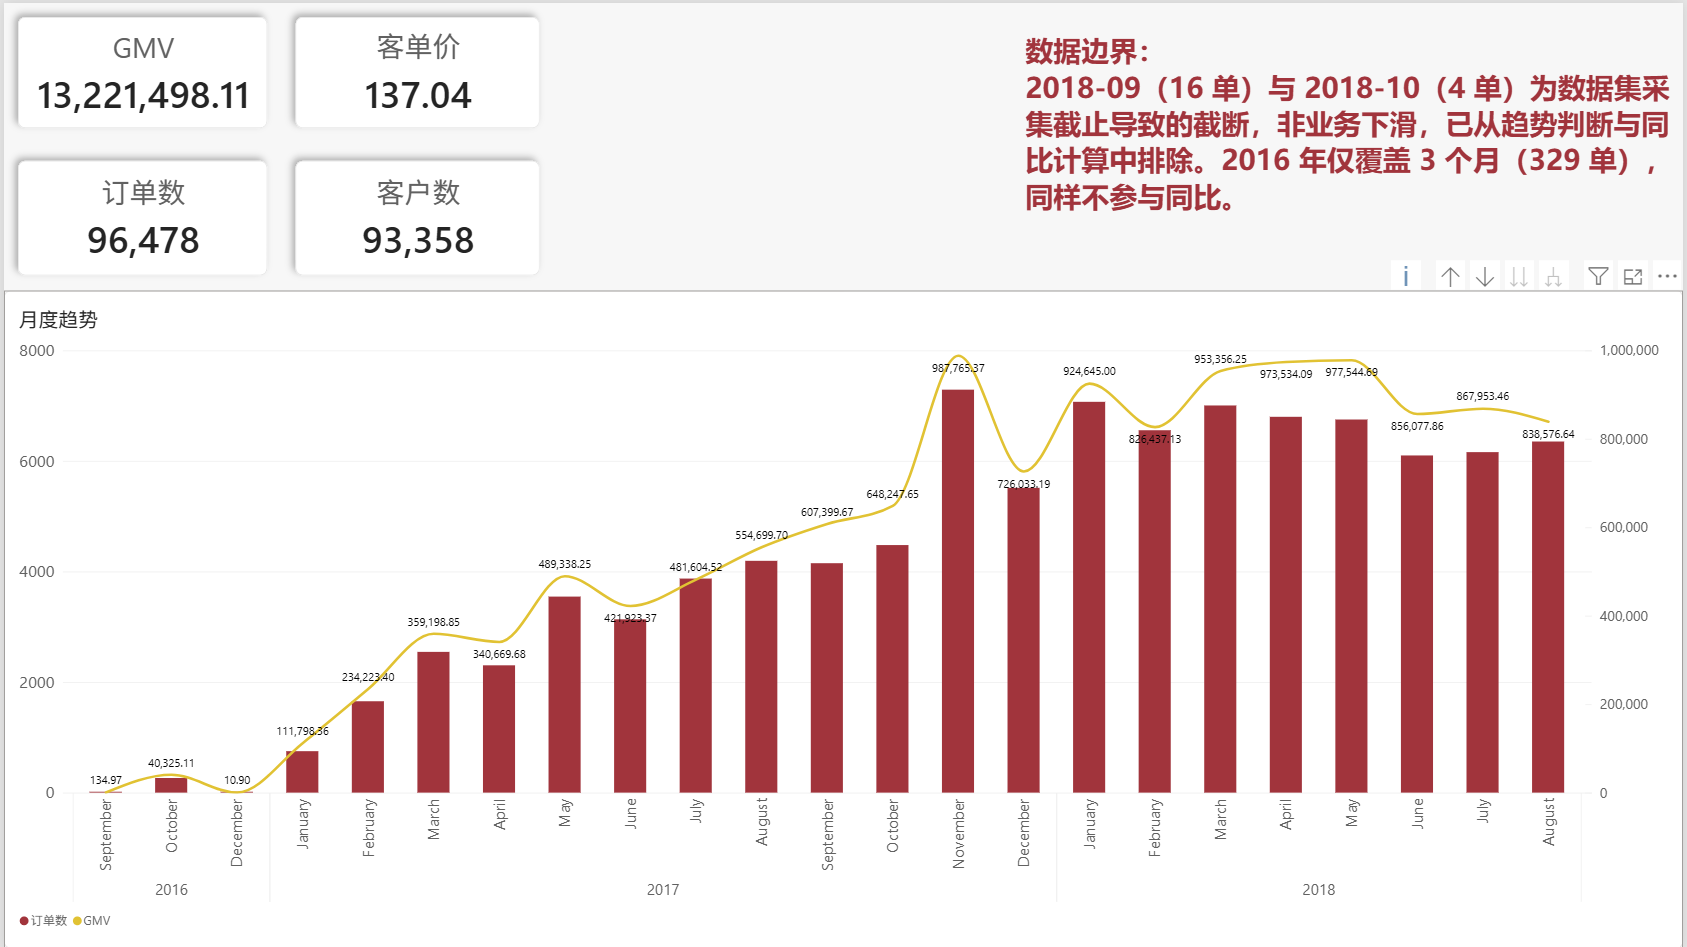

The page's visual inventory and layout, read from the dashboard file:
{"tool":"powerbi","page":{"name":"总览","canvas":[1920,1080],"ordinal":0},"visuals":[{"type":"cardVisual","fields":{"Data":["fact_order_items.GMV"]},"box":[0,0,317.4,159.9],"z":0},{"type":"cardVisual","fields":{"Data":["fact_orders.订单数"]},"box":[0,164.8,317.4,163.6],"z":1000},{"type":"cardVisual","fields":{"Data":["fact_orders.客单价"]},"box":[317.4,0,311.3,159.9],"z":2000},{"type":"cardVisual","title":"客户数","fields":{"Data":["fact_orders.客户数"]},"box":[317.4,164.8,311.3,163.6],"z":3000},{"type":"lineClusteredColumnComboChart","title":"月度趋势","fields":{"Category":["fact_orders.purchase_month.Variation.日期层次结构.年","fact_orders.purchase_month.Variation.日期层次结构.月份"],"Y":["fact_orders.订单数"],"Y2":["fact_order_items.GMV"]},"box":[0,328.3,1920,751.7],"z":4000},{"type":"textbox","box":[1167.1,32.9,752.9,295.7],"z":5000},{"type":"textbox","box":[1770,0,150,160],"z":5001}]}

Visuals, with their boxes in screenshot pixels (x1, y1, x2, y2), scaled from the page's 1920x1080 canvas onto the 1687x947 screenshot:
cardVisual - fact_order_items.GMV: bbox=[0, 0, 279, 140]
cardVisual - fact_orders.订单数: bbox=[0, 145, 279, 288]
cardVisual - fact_orders.客单价: bbox=[279, 0, 552, 140]
"客户数" cardVisual: bbox=[279, 145, 552, 288]
"月度趋势" lineClusteredColumnComboChart: bbox=[0, 288, 1686, 946]
textbox: bbox=[1025, 29, 1686, 288]
textbox: bbox=[1555, 0, 1686, 140]
